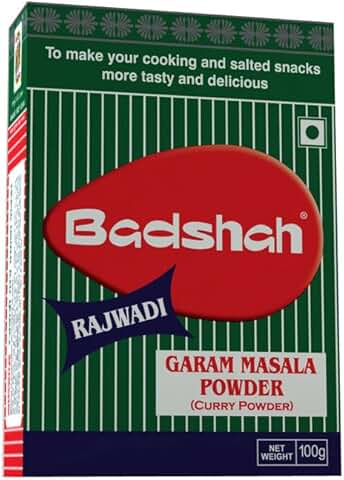Garamasala: (4, 5, 344, 480)
